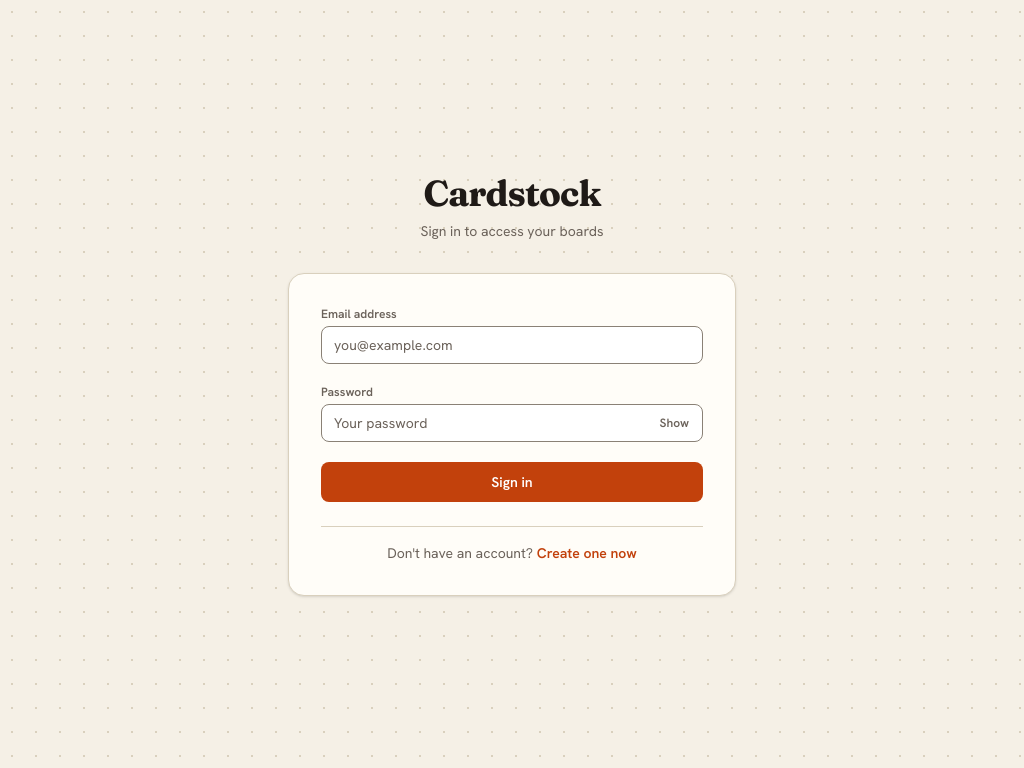
Test: AuthPage › Form Validation › validates invalid email format
Type "invalid-email" into the field labelled "Email address" at (512, 344), box [321,326,703,364]
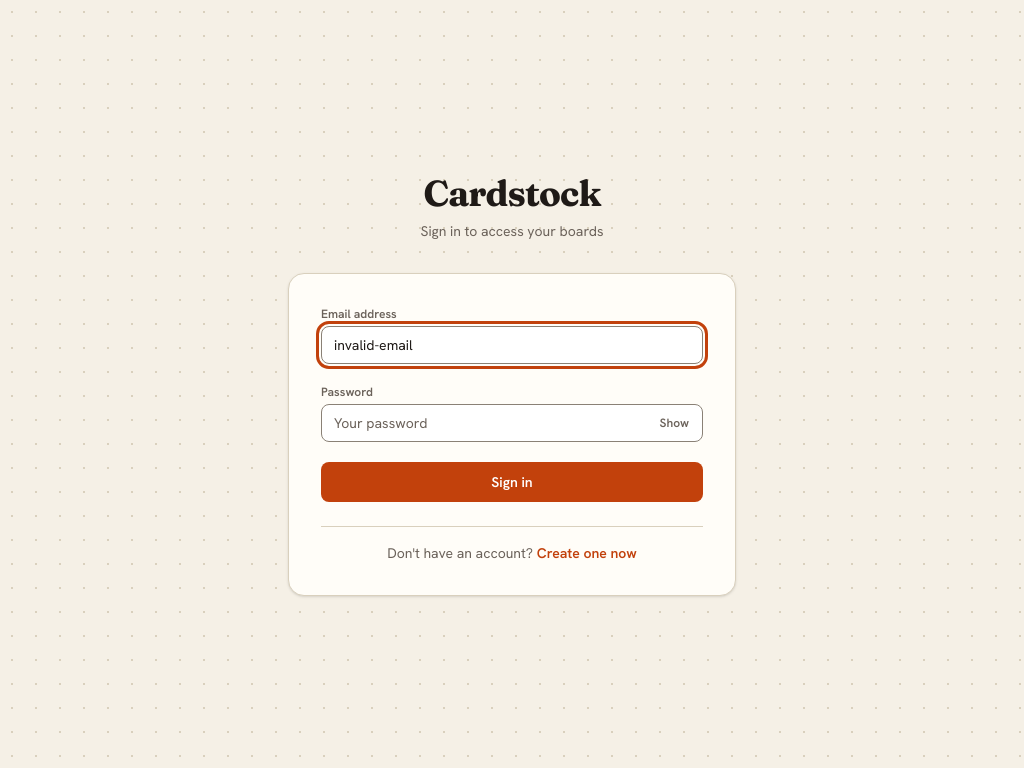
Click the button "Sign in" at (512, 482), box [321,462,703,502]
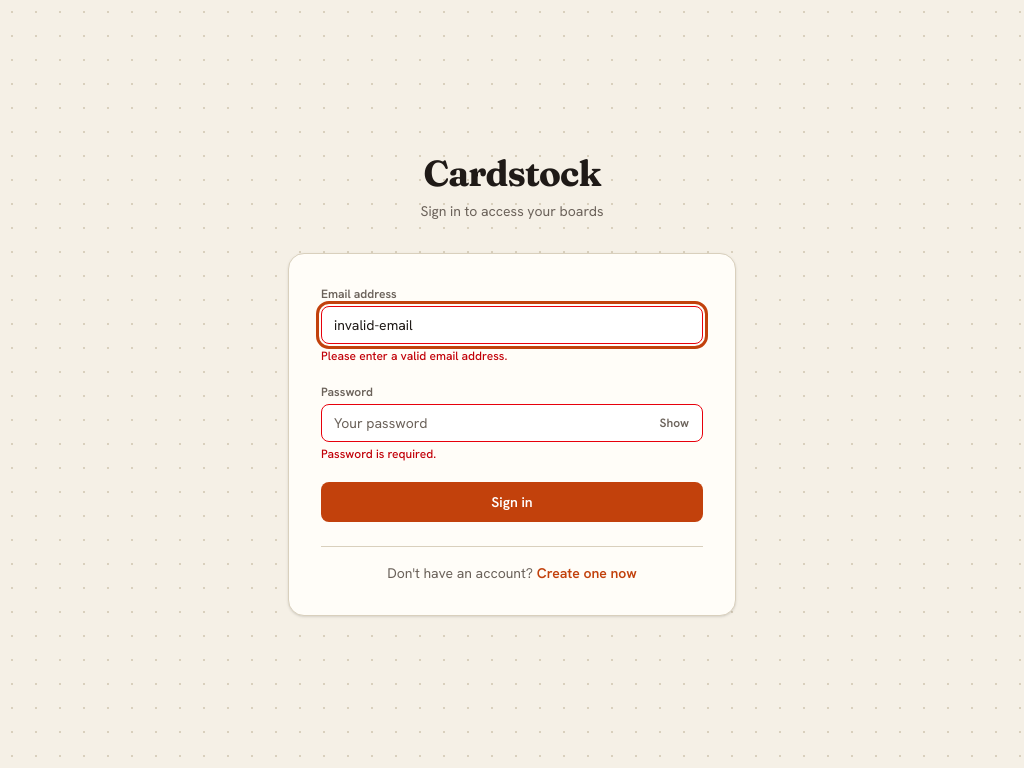
Check: the text "Please enter a valid email address." is shown, box [321,348,507,364]
